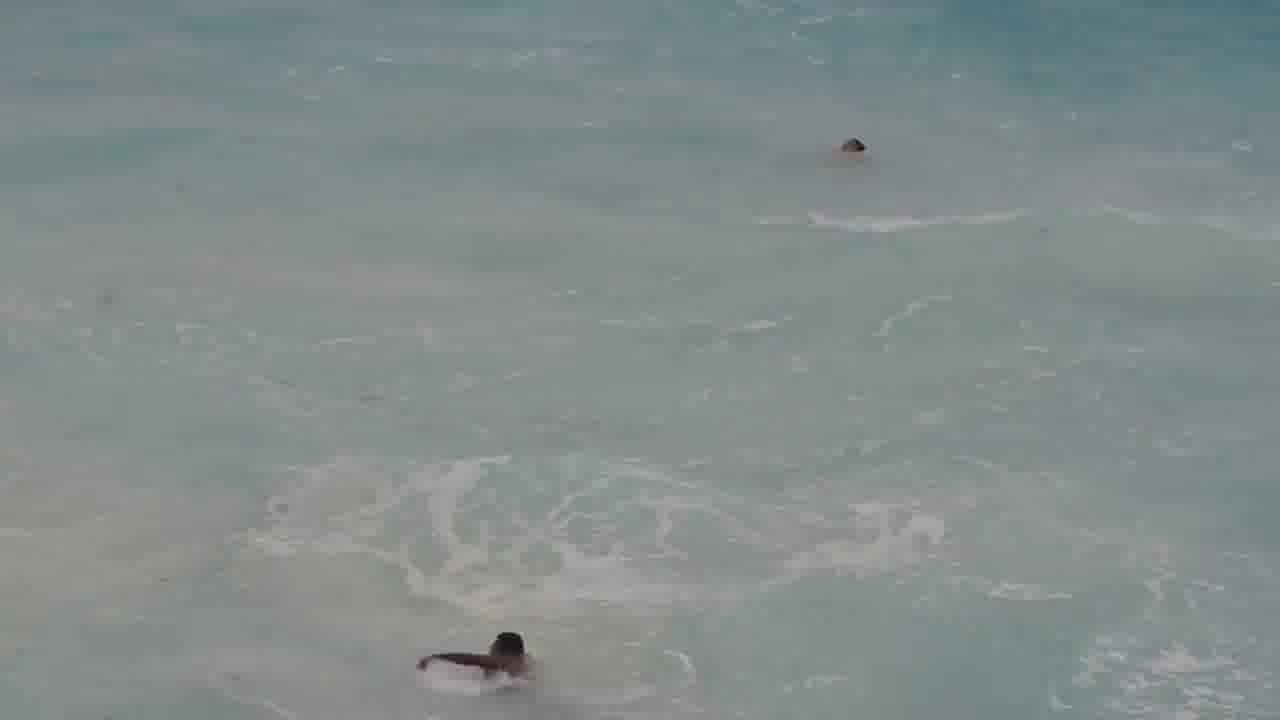human: (403, 619, 539, 686), (816, 120, 882, 165)
